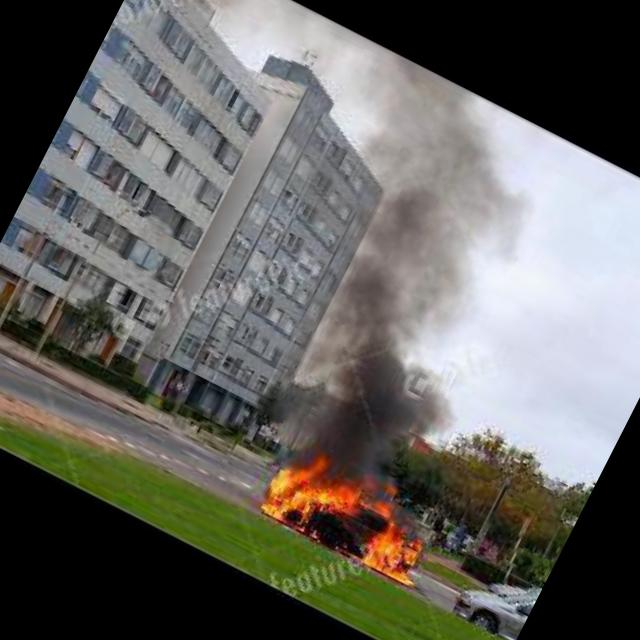fire: (240, 424, 458, 598)
smoke: (258, 86, 571, 496)
